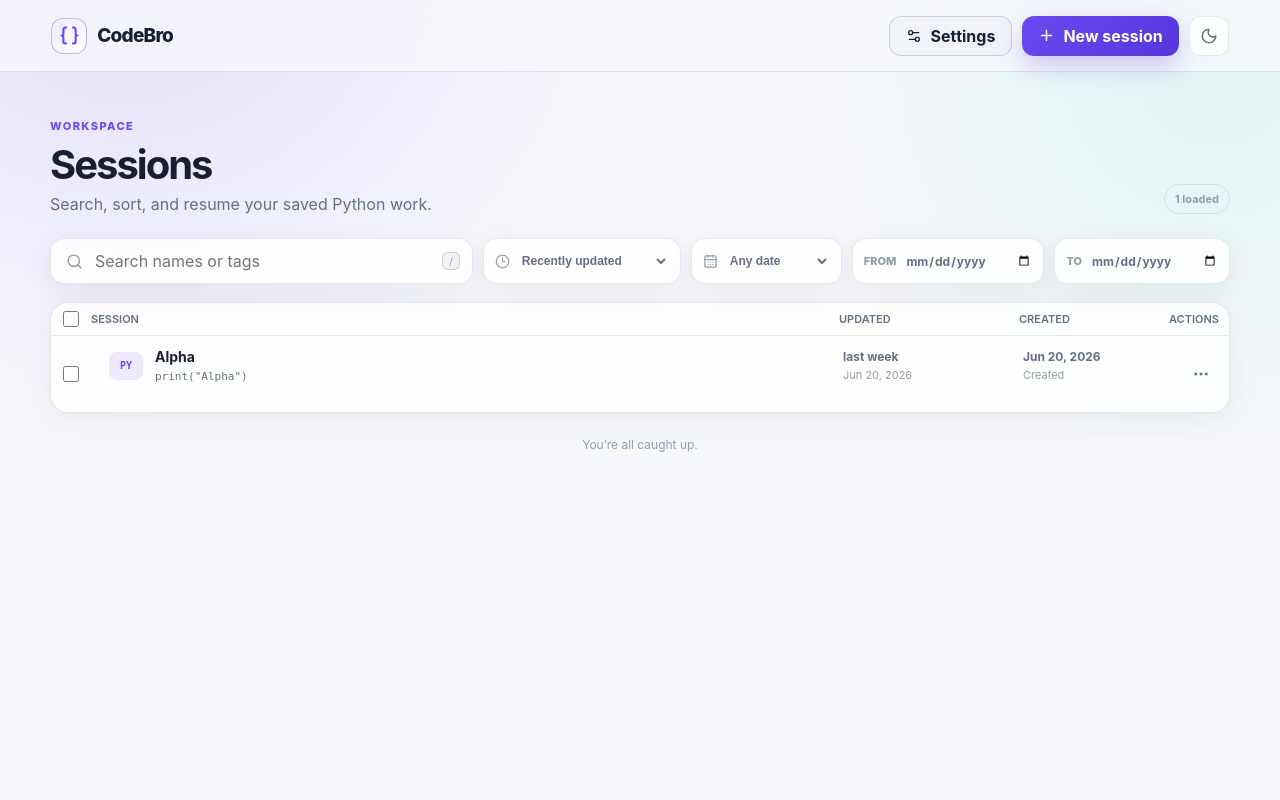
it: SessionLibrary data operations › reuses a bulk-delete mutation ID after an uncertain failure
Expected: the text "Alpha" is shown, [155,348,195,365]
Click the checkbox named "Select session Alpha": point(71, 374) [63,366,79,382]
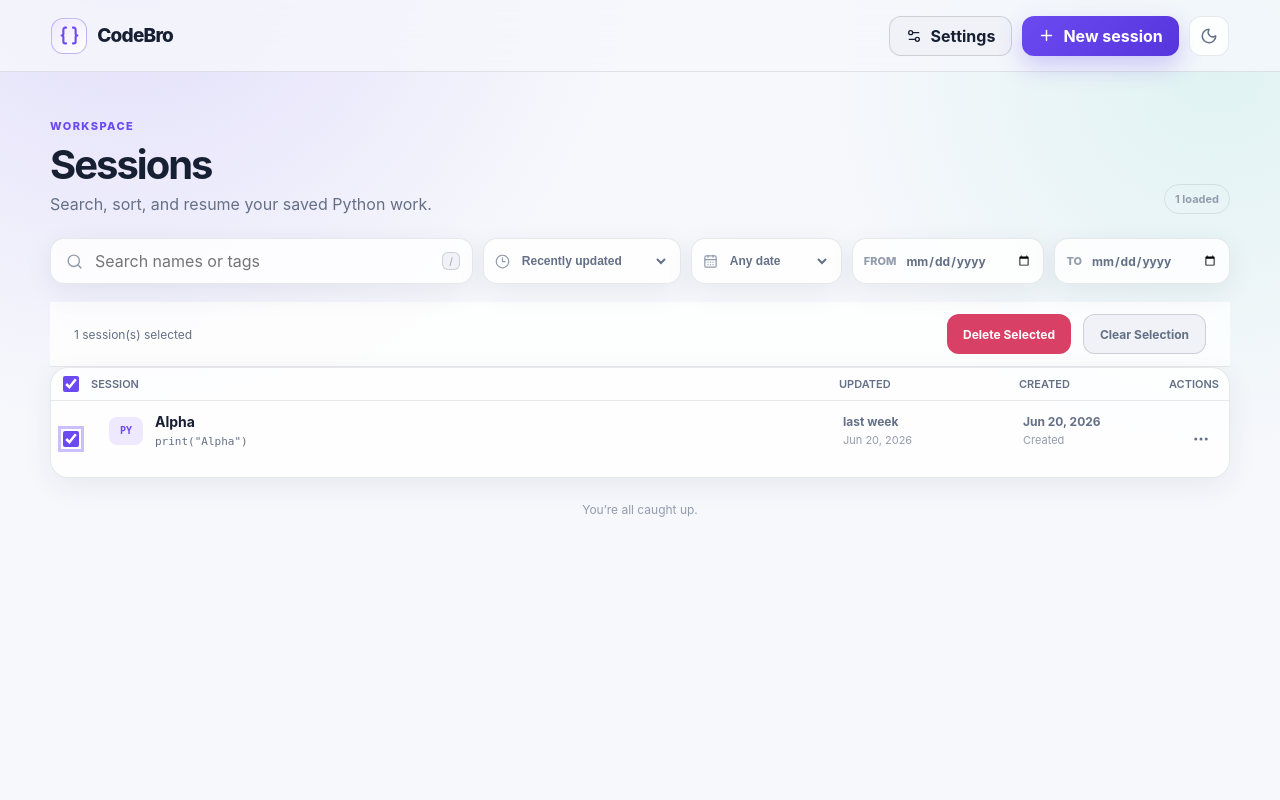
Click the button "Delete Selected": point(1009, 334) [947,314,1071,354]
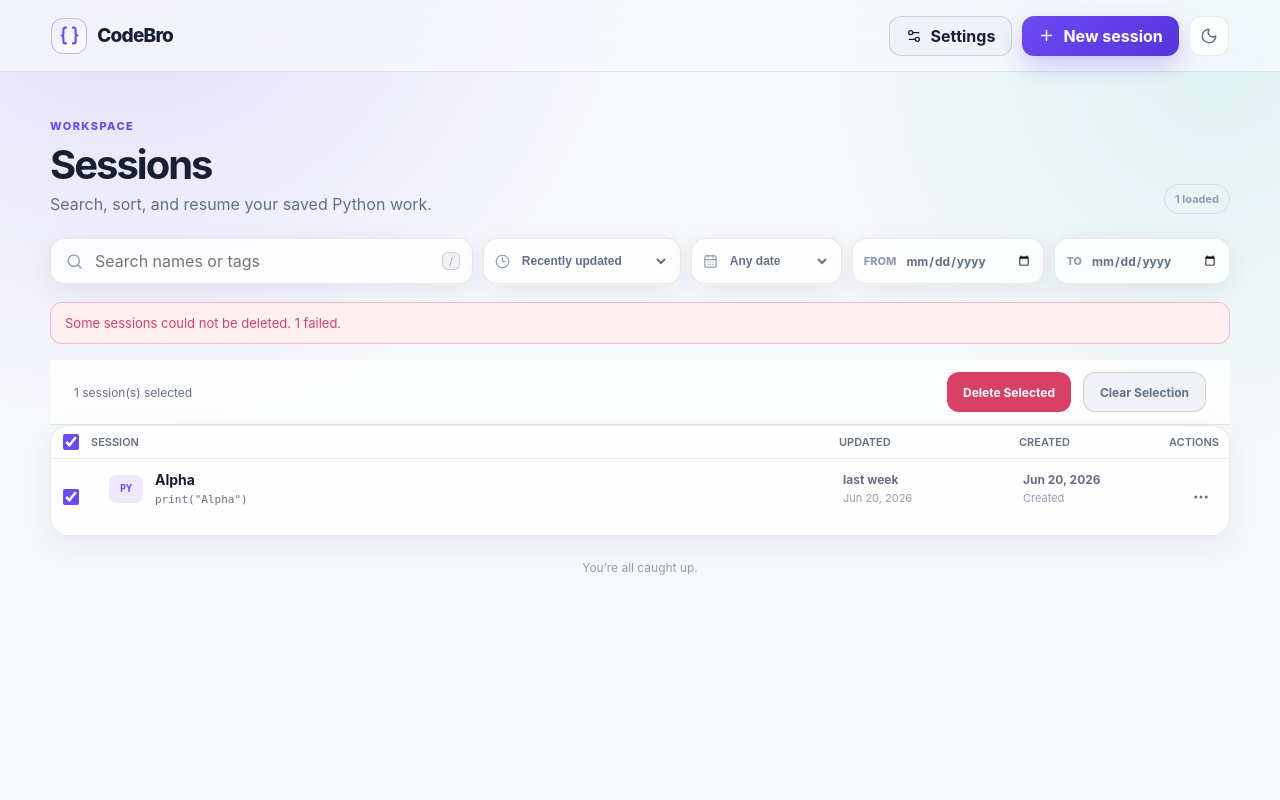
Now the text "Some sessions could not be deleted. 1 failed." is shown, box [50,302,1230,344]
Click the button "Delete Selected": point(1009, 392) [947,372,1071,412]
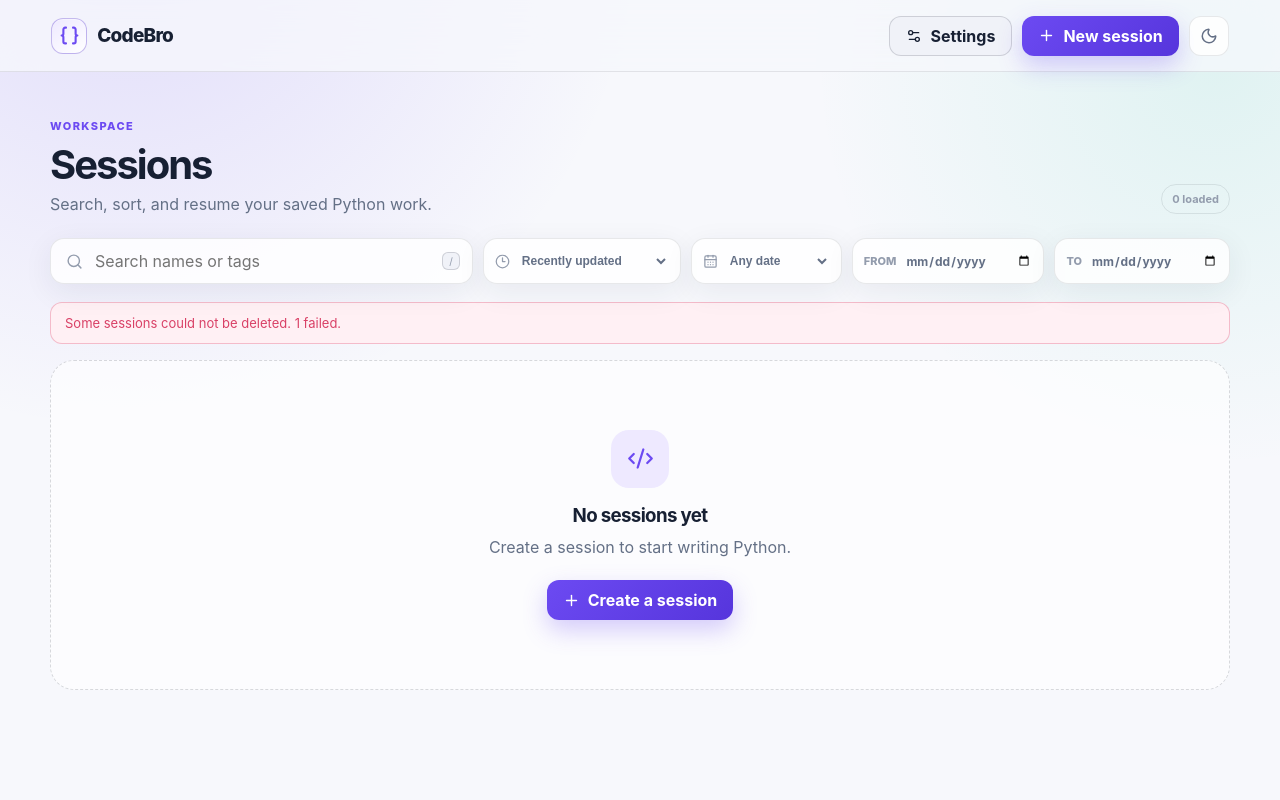
Now the button "Alpha" is gone
